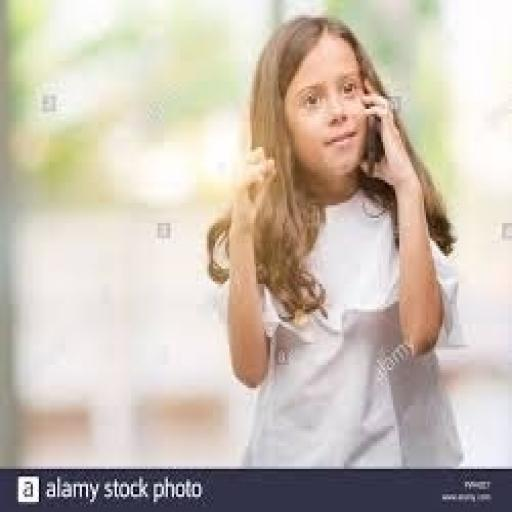texting: (207, 10, 465, 466)
